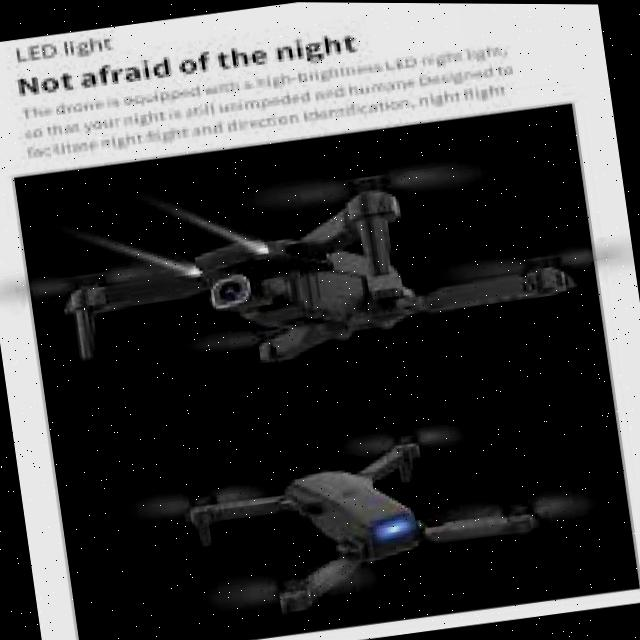drone: (11, 95, 604, 424), (110, 387, 607, 640)
